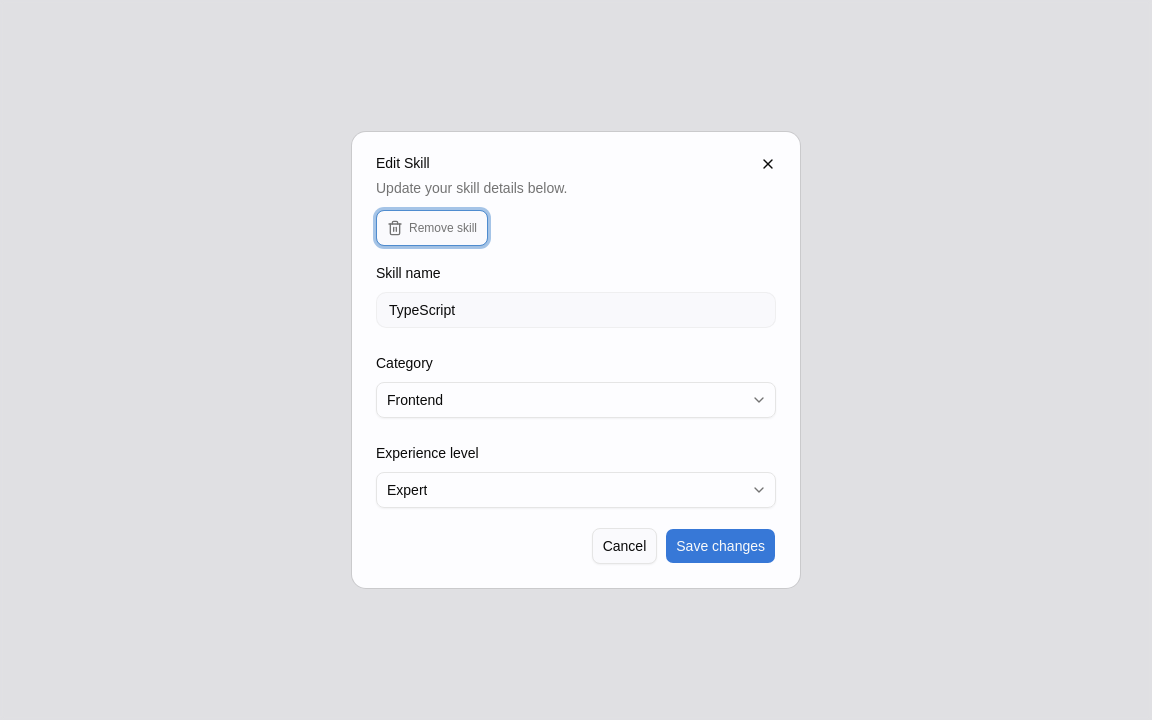
Test: EditSkillDialog › hides confirmation UI when cancel is clicked during deletion
What coordinates should you click on to do the following:
click the button "Remove skill"
I would click on:
 (432, 228)
Its box is [376,210,488,246].
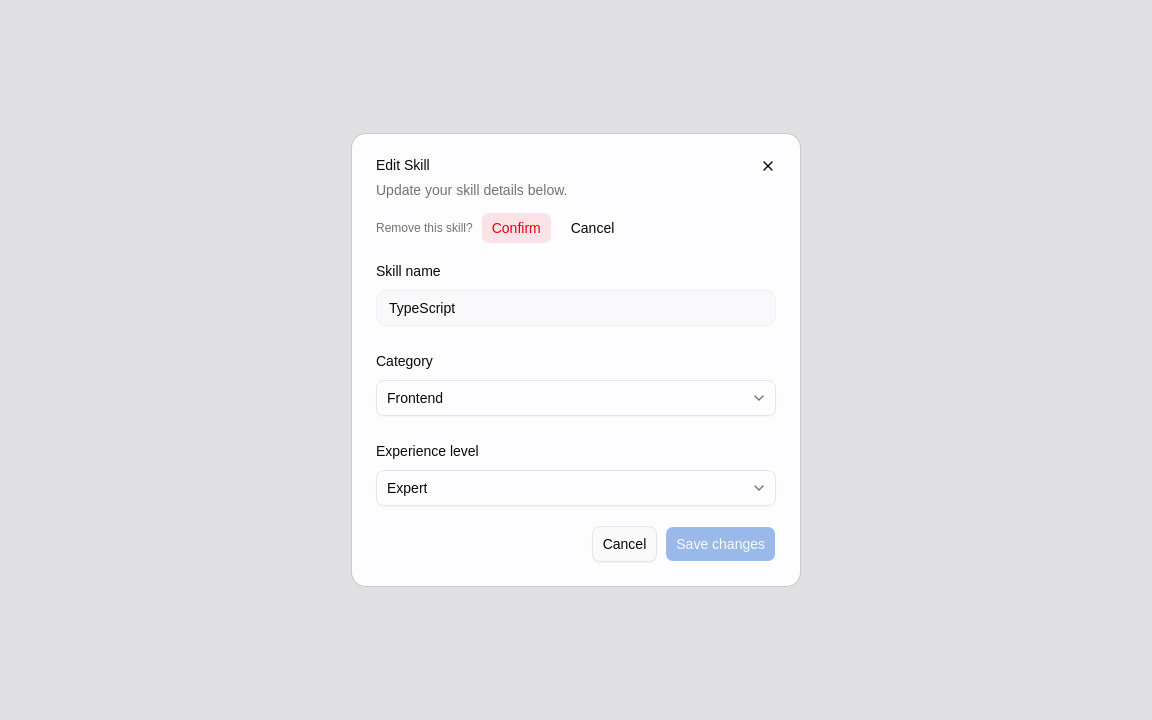
Two Cancel buttons exist: one in the confirm UI, one in the dialog footer
What coordinates should you click on to do the following:
click the button "Cancel" in the row of "Remove this skill?"
I would click on:
 (592, 228)
Its box is [560,212,625,244].
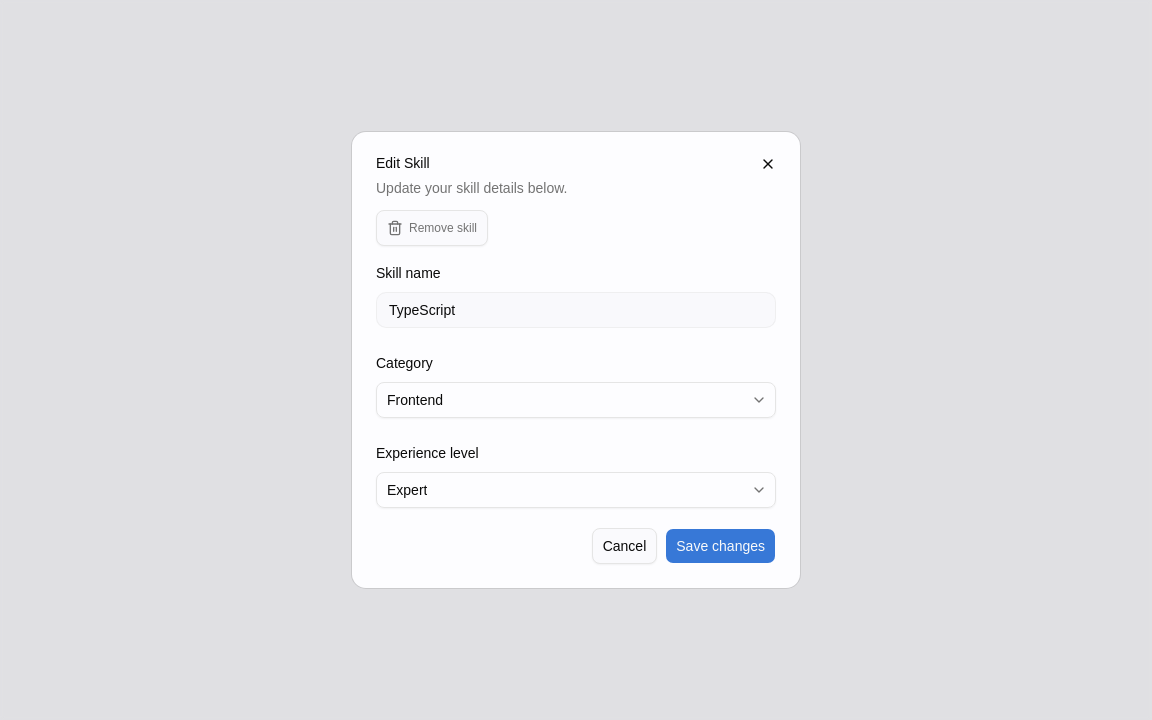
Check: the text "Remove this skill" is gone
